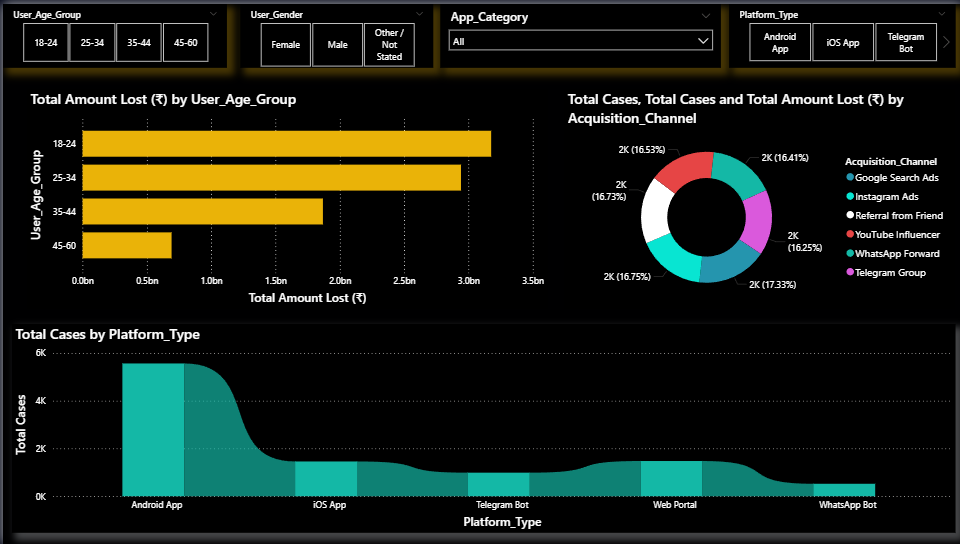

This screenshot's page, from the dashboard's own definition file:
{"tool":"powerbi","page":{"name":"Under Risk & Demographics ","canvas":[1280,720],"ordinal":1},"visuals":[{"type":"slicer","title":"Age group","fields":{"Values":["Scam_Facts.User_Age_Group"]},"box":[0,0,298.7,85.1],"z":0},{"type":"slicer","fields":{"Values":["Scam_Facts.User_Gender"]},"box":[316.1,0,257,84.5],"z":1000},{"type":"slicer","title":"App Category","fields":{"Values":["Scam_Facts.App_Category"]},"box":[582.9,0,373.7,85.1],"z":2000},{"type":"slicer","fields":{"Values":["Scam_Facts.Platform_Type"]},"box":[968.8,0,301.6,84.5],"z":3000},{"type":"clusteredBarChart","fields":{"Category":["Scam_Facts.User_Age_Group"],"Y":["Scam_Facts.Total Amount Lost (₹)"]},"box":[31.4,113.4,694.9,293.2],"z":4000},{"type":"ribbonChart","fields":{"Category":["Scam_Facts.Platform_Type","Scam_Facts.User_Gender"],"Y":["Scam_Facts.Total Cases"]},"box":[11.5,427.1,1258.1,278.5],"z":5000},{"type":"donutChart","fields":{"Category":["Scam_Facts.Acquisition_Channel"],"Y":["Scam_Facts.Total Cases"]},"box":[748.8,114,520.8,292.9],"z":6000}]}

Visuals, with their boxes in screenshot pixels (x1, y1, x2, y2), scaled from the page's 1280x720 canvas onto the 960x544 screenshot:
"Age group" slicer: (left=0, top=0, right=224, bottom=64)
slicer - Scam_Facts.User_Gender: (left=237, top=0, right=430, bottom=64)
"App Category" slicer: (left=437, top=0, right=717, bottom=64)
slicer - Scam_Facts.Platform_Type: (left=727, top=0, right=953, bottom=64)
clusteredBarChart - Scam_Facts.User_Age_Group x Scam_Facts.Total Amount Lost (₹): (left=24, top=86, right=545, bottom=307)
ribbonChart - Scam_Facts.Platform_Type x Scam_Facts.User_Gender: (left=9, top=323, right=952, bottom=533)
donutChart - Scam_Facts.Acquisition_Channel x Scam_Facts.Total Cases: (left=562, top=86, right=952, bottom=307)
